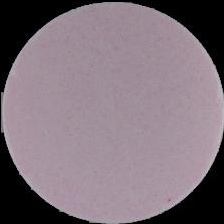63629-5223: (0, 0, 224, 224)
